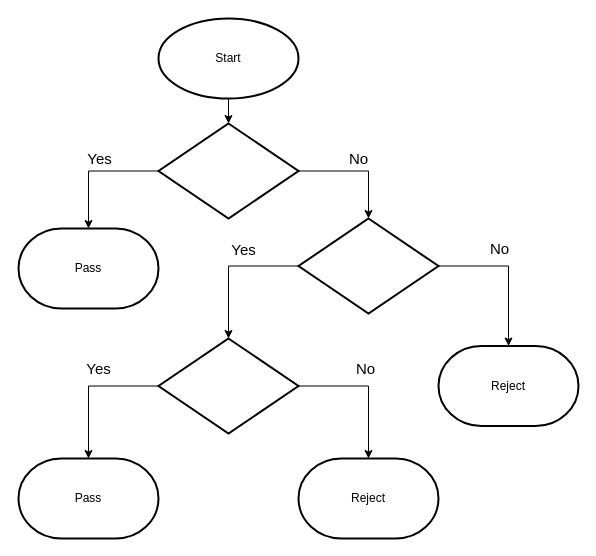
The diagram is 596 pixels wide and 556 high, and some of its shapes have lost their labels. Here are the shapes that lost their labels. From the top down, the box of each, then its label:
(157, 122, 299, 219): Color = 3
(297, 217, 439, 314): dimension 0.92~1.08
(157, 337, 299, 434): weight 0.55~0.75
